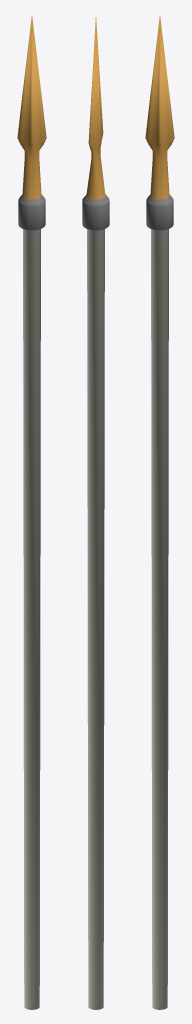
The model's file is Spear002.fbx.
The picture shows the model from 3 angles, left to right: view 1: azimuth 90°, elevation 25°; view 2: azimuth 150°, elevation 25°; view 3: azimuth 270°, elevation 25°; orthographic projection.
Visible parts, largest first — view 1: Cylinder; view 2: Cylinder; view 3: Cylinder.
Part boxes in pixels (x1=…): Cylinder: x1=17, y1=15, x2=46, y2=1009; Cylinder: x1=82, y1=17, x2=109, y2=1009; Cylinder: x1=145, y1=15, x2=174, y2=1009.
Size of the model in its own units: 200 by 8005 by 214.
